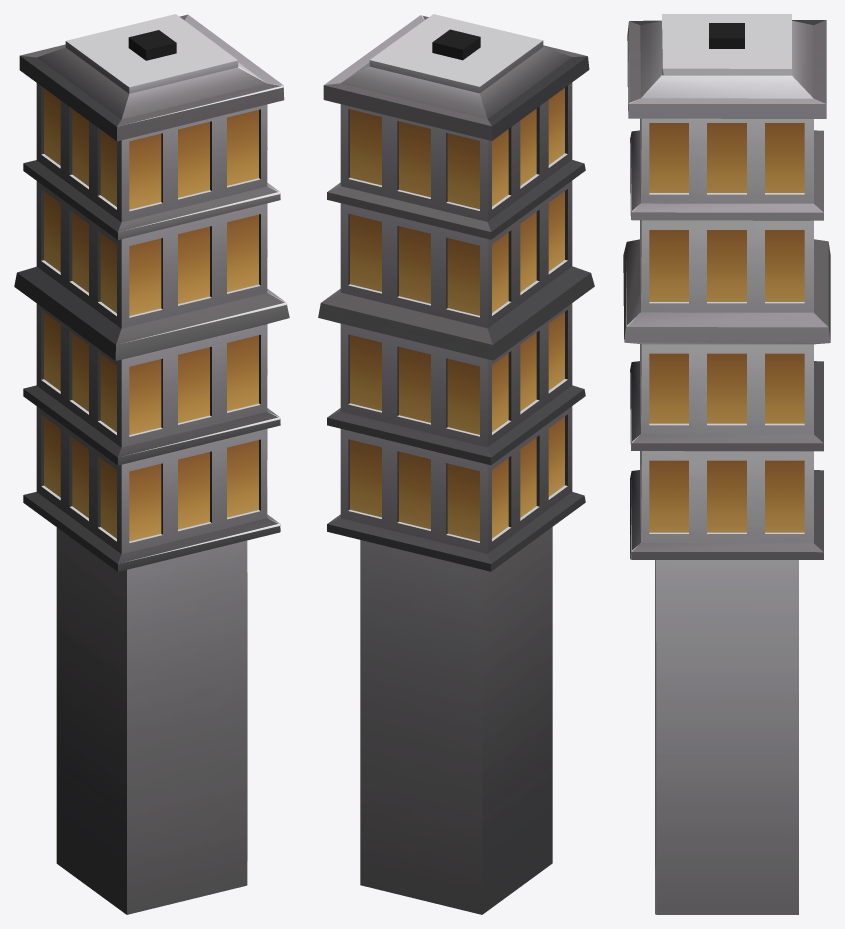
Rendered from SM_Building_12.fbx.
3 renders of one model, left to right at view 1: azimuth 30°, elevation 25°; view 2: azimuth 150°, elevation 25°; view 3: azimuth 270°, elevation 25°, orthographic. The views are drawn at different scales.
Parts seen in each view (by area): view 1: SM_Building_12; view 2: SM_Building_12; view 3: SM_Building_12.
Part boxes in pixels (x1,y1,x2,y2): SM_Building_12: (14, 14, 289, 914); SM_Building_12: (318, 14, 594, 914); SM_Building_12: (623, 14, 830, 914).
Bounding box in the file's own units: 625 × 2840 × 625.
